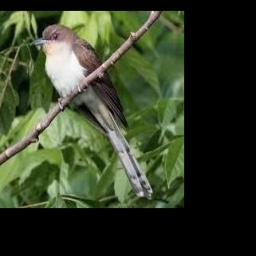Cuckoo: (32, 25, 153, 200)
